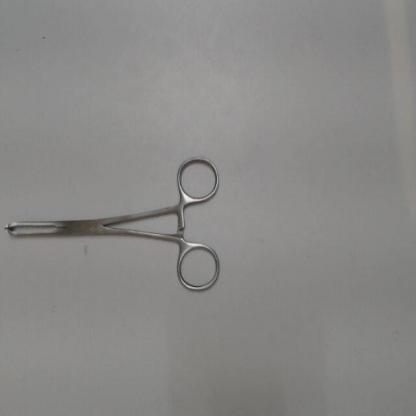Allis Tissue Forceps: (2, 151, 224, 303)
